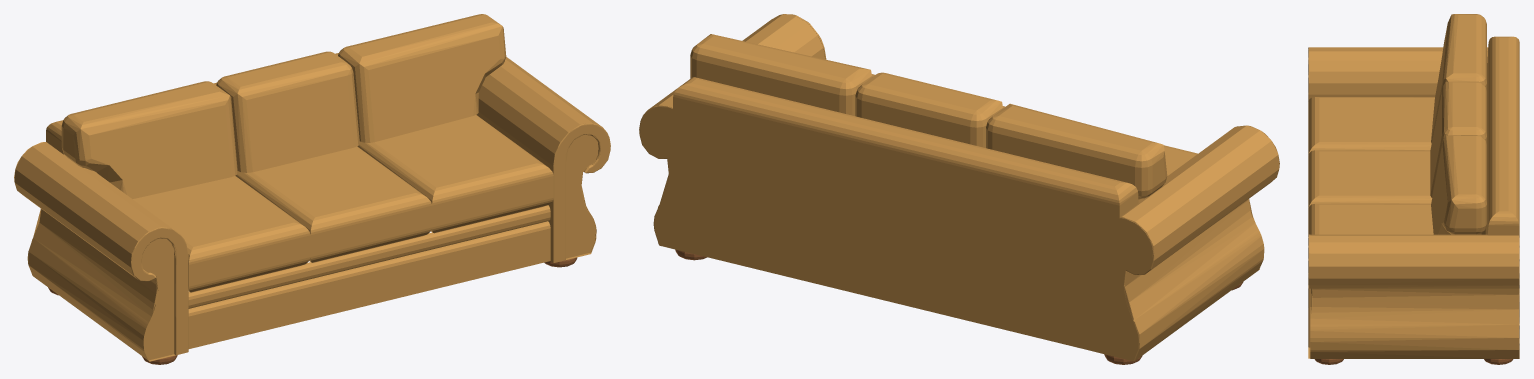
Rendered from Couch Brown.glb.
The picture shows the model from 3 angles, left to right: view 1: azimuth 30°, elevation 25°; view 2: azimuth 150°, elevation 25°; view 3: azimuth 270°, elevation 25°; orthographic projection. The views are drawn at different scales.
Parts seen in each view (by area): view 1: Node; view 2: Node; view 3: Node.
Part boxes in pixels (x1,y1,x2,y2): Node: (14, 14, 610, 364); Node: (639, 14, 1279, 364); Node: (1308, 14, 1519, 364).
Bounding box in the file's own units: 92.12 × 34 × 39.
